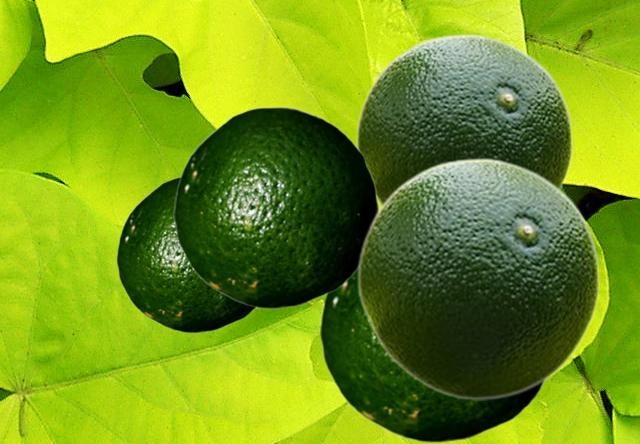calamansi: (356, 157, 600, 399), (173, 106, 379, 308), (319, 274, 547, 442), (355, 33, 573, 203), (116, 175, 255, 332)
